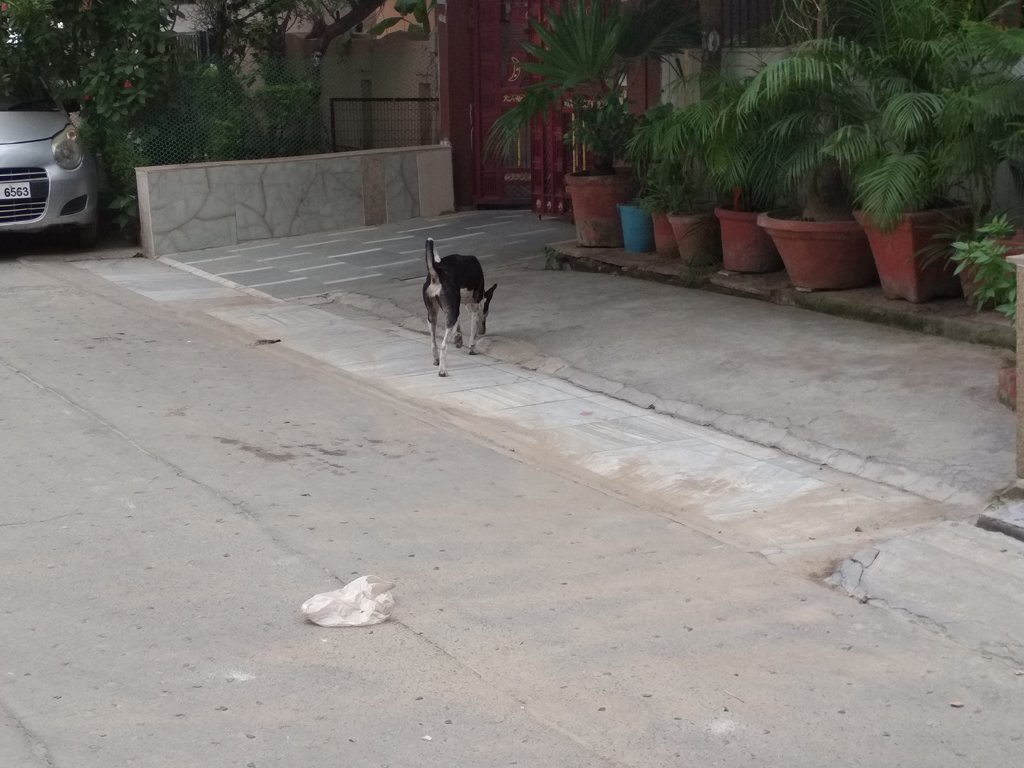dog: (422, 238, 497, 377)
